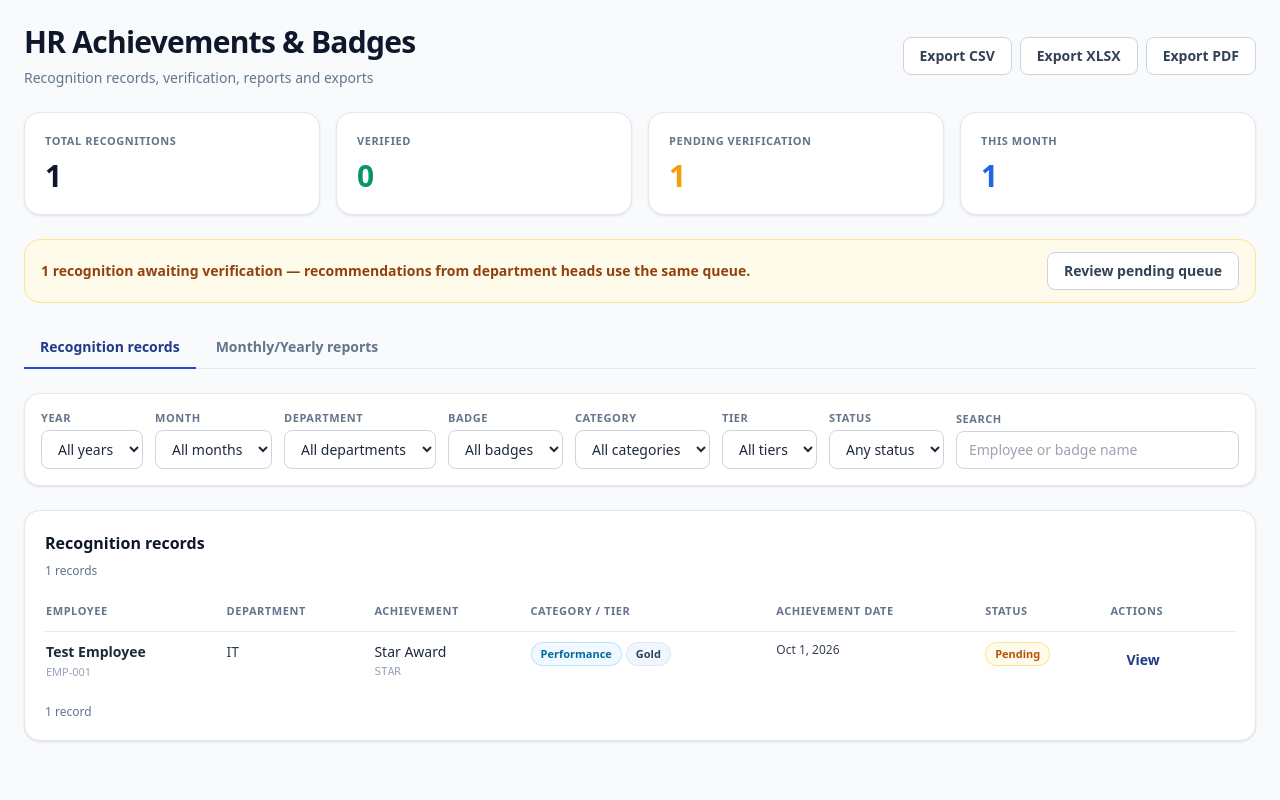
Test: recognition detail modal — evidence rendering › renders the enriched measured evidence and badge criteria payload
Expected: the text "Test Employee" is shown, [46,642,146,661]
Click the button "View" at [1143, 660], box [1110,642,1176,678]
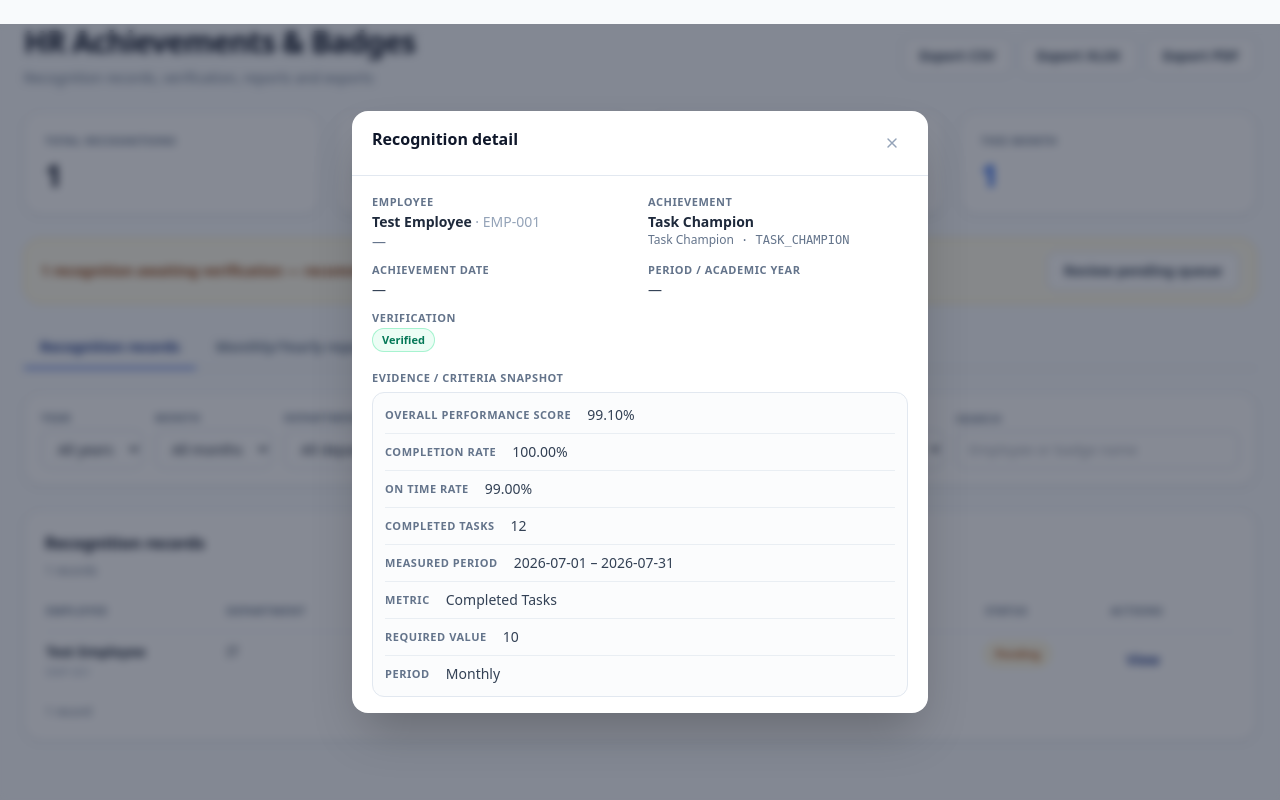
Expected: the text "Overall performance score" is shown, [385,405,571,425]
Expected: the text "99.10%" is shown, [587,405,635,424]
Expected: the text "100.00%" is shown, [512,442,568,461]
